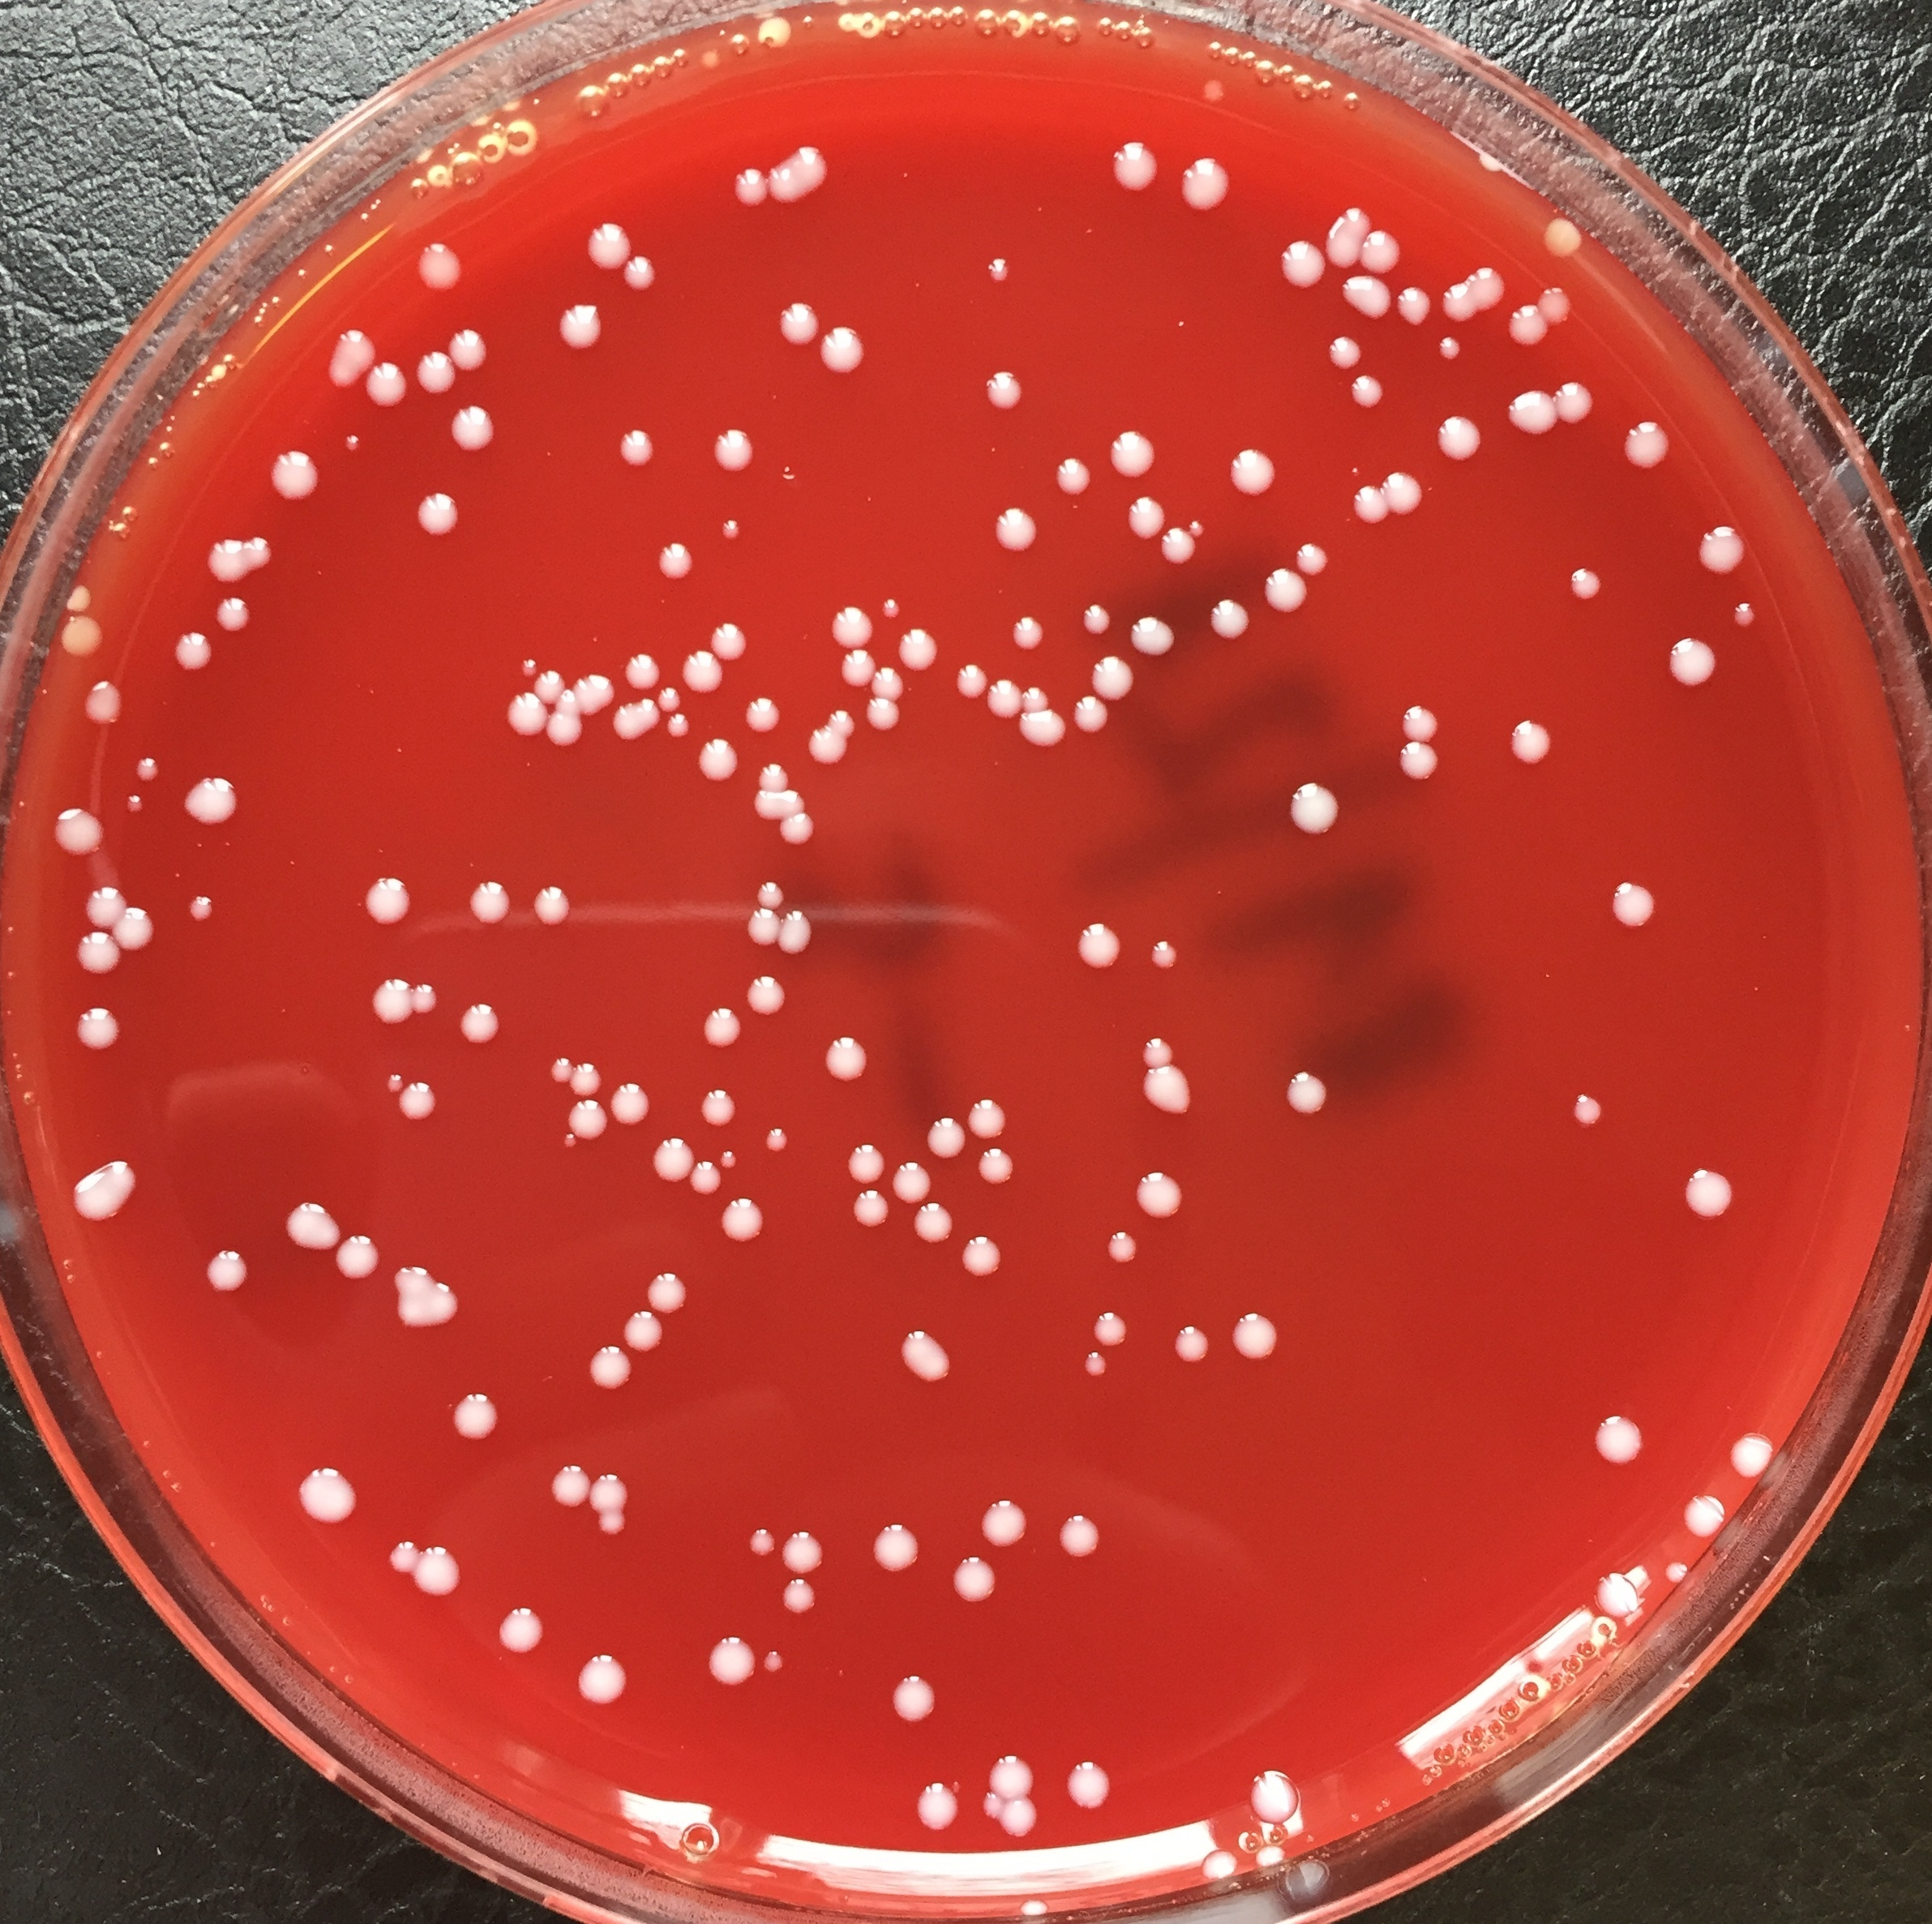sp22: (1657, 1145, 1766, 1219), (1390, 277, 1432, 463), (389, 1242, 463, 1341), (285, 1441, 361, 1536), (1173, 141, 1250, 218), (1574, 1394, 1648, 1475), (1592, 860, 1678, 929), (874, 1663, 949, 1737), (937, 243, 1027, 303), (1095, 122, 1164, 199), (569, 1644, 636, 1720), (70, 1149, 139, 1221), (442, 1374, 502, 1457), (865, 1508, 928, 1586), (1499, 296, 1555, 382), (940, 1550, 1011, 1619), (1134, 1156, 1201, 1226), (1279, 770, 1340, 844), (1678, 514, 1752, 576), (1067, 1744, 1118, 1831), (1138, 1068, 1213, 1124), (1717, 1415, 1782, 1480), (201, 1232, 254, 1311), (1062, 911, 1122, 980), (555, 291, 616, 356), (1083, 654, 1145, 719), (1242, 1765, 1309, 1825), (704, 418, 764, 485), (704, 1628, 757, 1704), (1055, 1505, 1113, 1572), (1432, 285, 1490, 352), (1677, 1484, 1738, 1545), (896, 1327, 955, 1392), (972, 1482, 1029, 1549), (1615, 402, 1670, 470), (771, 139, 826, 208), (62, 1001, 130, 1055), (1228, 1304, 1286, 1367), (454, 985, 512, 1048), (405, 481, 463, 544), (574, 208, 632, 270), (356, 865, 412, 929), (1469, 268, 1513, 349), (282, 1188, 336, 1253), (51, 803, 106, 869), (604, 407, 655, 476), (178, 768, 236, 828), (1286, 1054, 1342, 1115), (914, 1774, 967, 1839), (417, 1540, 470, 1605), (1499, 715, 1555, 775), (1106, 418, 1161, 477), (405, 240, 461, 296), (777, 1519, 831, 1577), (981, 504, 1043, 555), (1671, 624, 1717, 692), (447, 307, 491, 377), (328, 324, 373, 391), (74, 678, 141, 724), (717, 1193, 777, 1244), (842, 1175, 889, 1239), (1393, 745, 1448, 800), (262, 449, 319, 502), (444, 398, 497, 455), (65, 932, 123, 983), (1587, 1568, 1641, 1621), (581, 1341, 634, 1395), (564, 662, 616, 717), (1272, 240, 1328, 291), (495, 1598, 542, 1658), (696, 1077, 740, 1140), (398, 1085, 451, 1138), (817, 324, 870, 377), (352, 359, 407, 411), (977, 361, 1027, 418), (1434, 416, 1490, 465), (1722, 590, 1768, 650), (1228, 442, 1279, 495), (972, 677, 1023, 729), (689, 733, 741, 784), (696, 1004, 745, 1059), (609, 1078, 659, 1133), (822, 1029, 870, 1085), (1168, 1321, 1217, 1374), (81, 879, 134, 929), (645, 1265, 692, 1320), (1257, 564, 1305, 618), (493, 691, 548, 738), (1539, 210, 1585, 266), (1324, 201, 1361, 270), (1064, 694, 1113, 745), (331, 1232, 379, 1284), (907, 1196, 956, 1246), (657, 532, 704, 583), (1379, 465, 1430, 513), (926, 1110, 972, 1163), (1189, 1845, 1243, 1889), (1051, 444, 1095, 499), (243, 529, 282, 590), (1506, 384, 1548, 440), (620, 1304, 667, 1353), (965, 1092, 1011, 1143), (1388, 699, 1441, 744), (680, 645, 722, 699), (1564, 1085, 1604, 1142), (468, 869, 505, 930), (648, 1135, 696, 1182), (558, 1099, 606, 1147), (828, 645, 875, 692), (111, 904, 157, 953), (784, 899, 822, 957), (726, 159, 770, 210), (759, 1639, 801, 1691), (988, 1750, 1036, 1795), (1208, 597, 1254, 645), (842, 1135, 886, 1184), (736, 906, 780, 955), (743, 967, 794, 1010), (548, 1459, 588, 1512), (1338, 277, 1391, 317), (167, 625, 213, 671), (960, 1235, 1002, 1284), (972, 1147, 1021, 1189), (743, 687, 785, 736), (777, 300, 817, 351), (1145, 930, 1184, 983), (1021, 715, 1074, 754), (824, 601, 868, 647), (865, 694, 909, 740), (777, 1579, 824, 1621), (368, 967, 407, 1018), (414, 344, 453, 395), (55, 620, 107, 657), (893, 629, 939, 671), (997, 1795, 1037, 1841), (178, 886, 218, 932), (1360, 226, 1400, 271), (1002, 613, 1050, 652), (535, 870, 564, 934), (1090, 1306, 1131, 1350), (889, 1161, 933, 1202), (1122, 492, 1166, 532), (1553, 375, 1594, 419), (586, 1471, 632, 1510), (1104, 1232, 1145, 1274), (1155, 529, 1198, 569), (948, 661, 990, 701), (1567, 564, 1604, 610), (208, 594, 254, 631), (1534, 282, 1569, 329), (203, 544, 243, 585), (623, 257, 662, 300), (874, 666, 918, 703), (1321, 329, 1365, 366), (1346, 375, 1390, 412), (1007, 1892, 1058, 1924), (1129, 1032, 1180, 1064), (384, 1531, 419, 1577), (1294, 534, 1333, 574), (740, 1519, 775, 1563), (807, 736, 851, 772), (407, 971, 435, 1025), (572, 1050, 608, 1092), (777, 786, 821, 819), (819, 699, 865, 731), (1078, 1346, 1117, 1383), (710, 618, 748, 655), (715, 509, 750, 550), (129, 754, 164, 795), (51, 580, 95, 611), (1663, 1554, 1696, 1595), (870, 587, 911, 620), (1194, 72, 1228, 113), (585, 1512, 630, 1540), (1351, 479, 1383, 520), (761, 1119, 794, 1156), (1078, 604, 1115, 638), (542, 717, 585, 745), (1125, 615, 1157, 652), (782, 823, 822, 849), (692, 1154, 720, 1191), (666, 708, 703, 736), (623, 652, 652, 687), (741, 879, 778, 906), (338, 428, 368, 460), (1434, 329, 1465, 359), (748, 791, 784, 818), (120, 796, 153, 823), (532, 655, 555, 692), (542, 1050, 569, 1082), (757, 763, 791, 788), (379, 1068, 407, 1096), (653, 685, 685, 710), (1020, 685, 1051, 710), (717, 1149, 741, 1177), (1187, 518, 1210, 543), (984, 1788, 1002, 1818), (608, 726, 636, 744), (557, 1135, 581, 1154)
